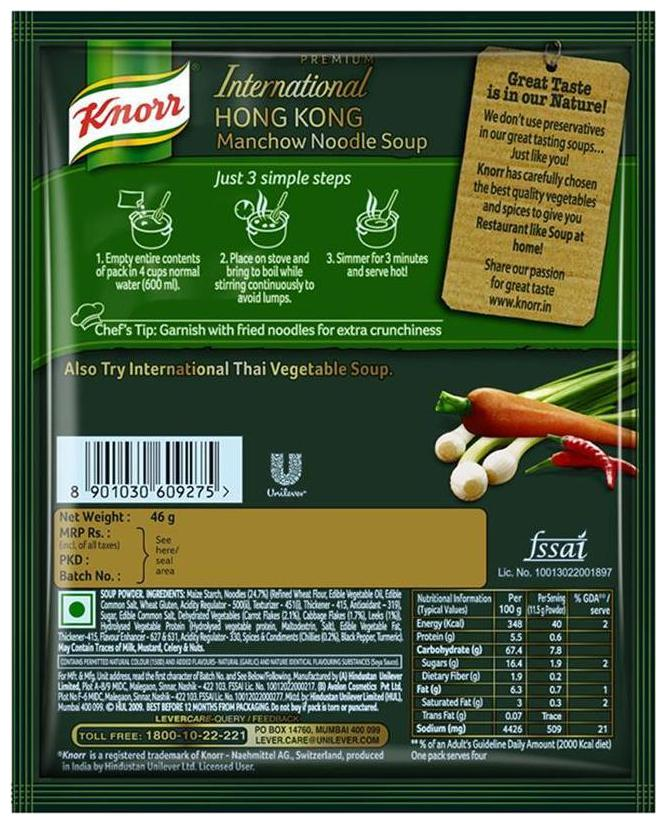fssai: (519, 528, 589, 563)
